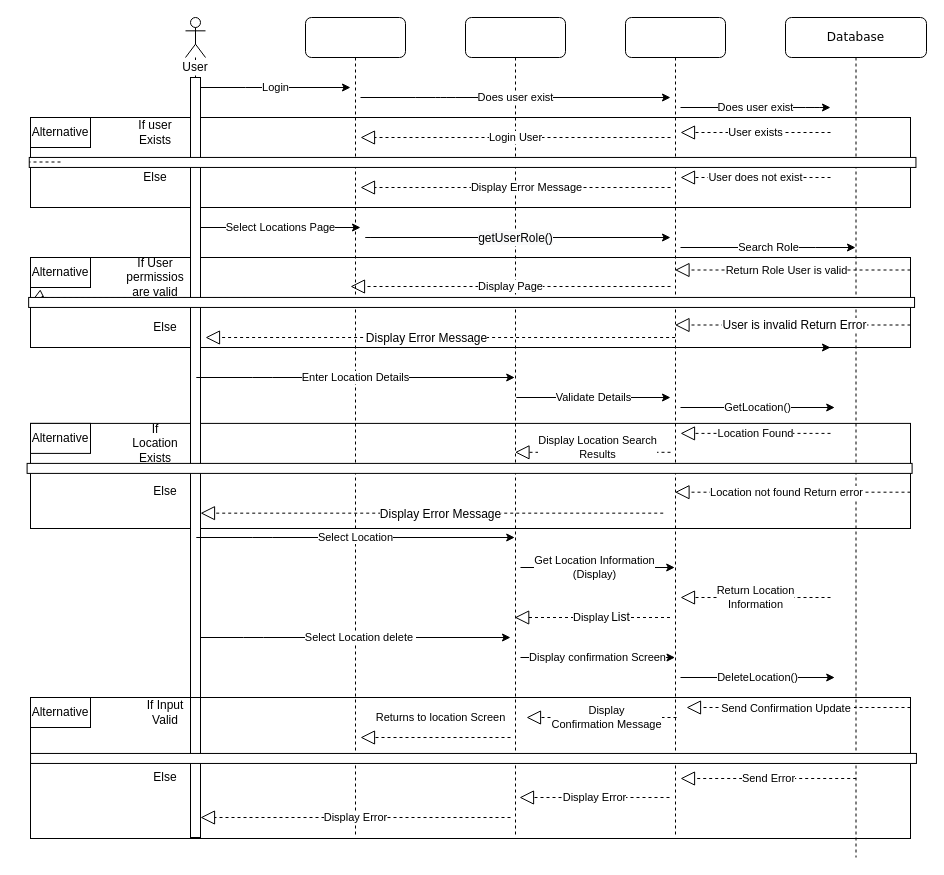
The diagram is 944 pixels wide and 875 high, and some of its shapes have lost their labels. The shapes that lost their labels are listed below. From the top down, each one's centre as x and y in pixels, then its label:
point 355,427: Login Screen
point 515,427: Home Page
point 675,427: Service
